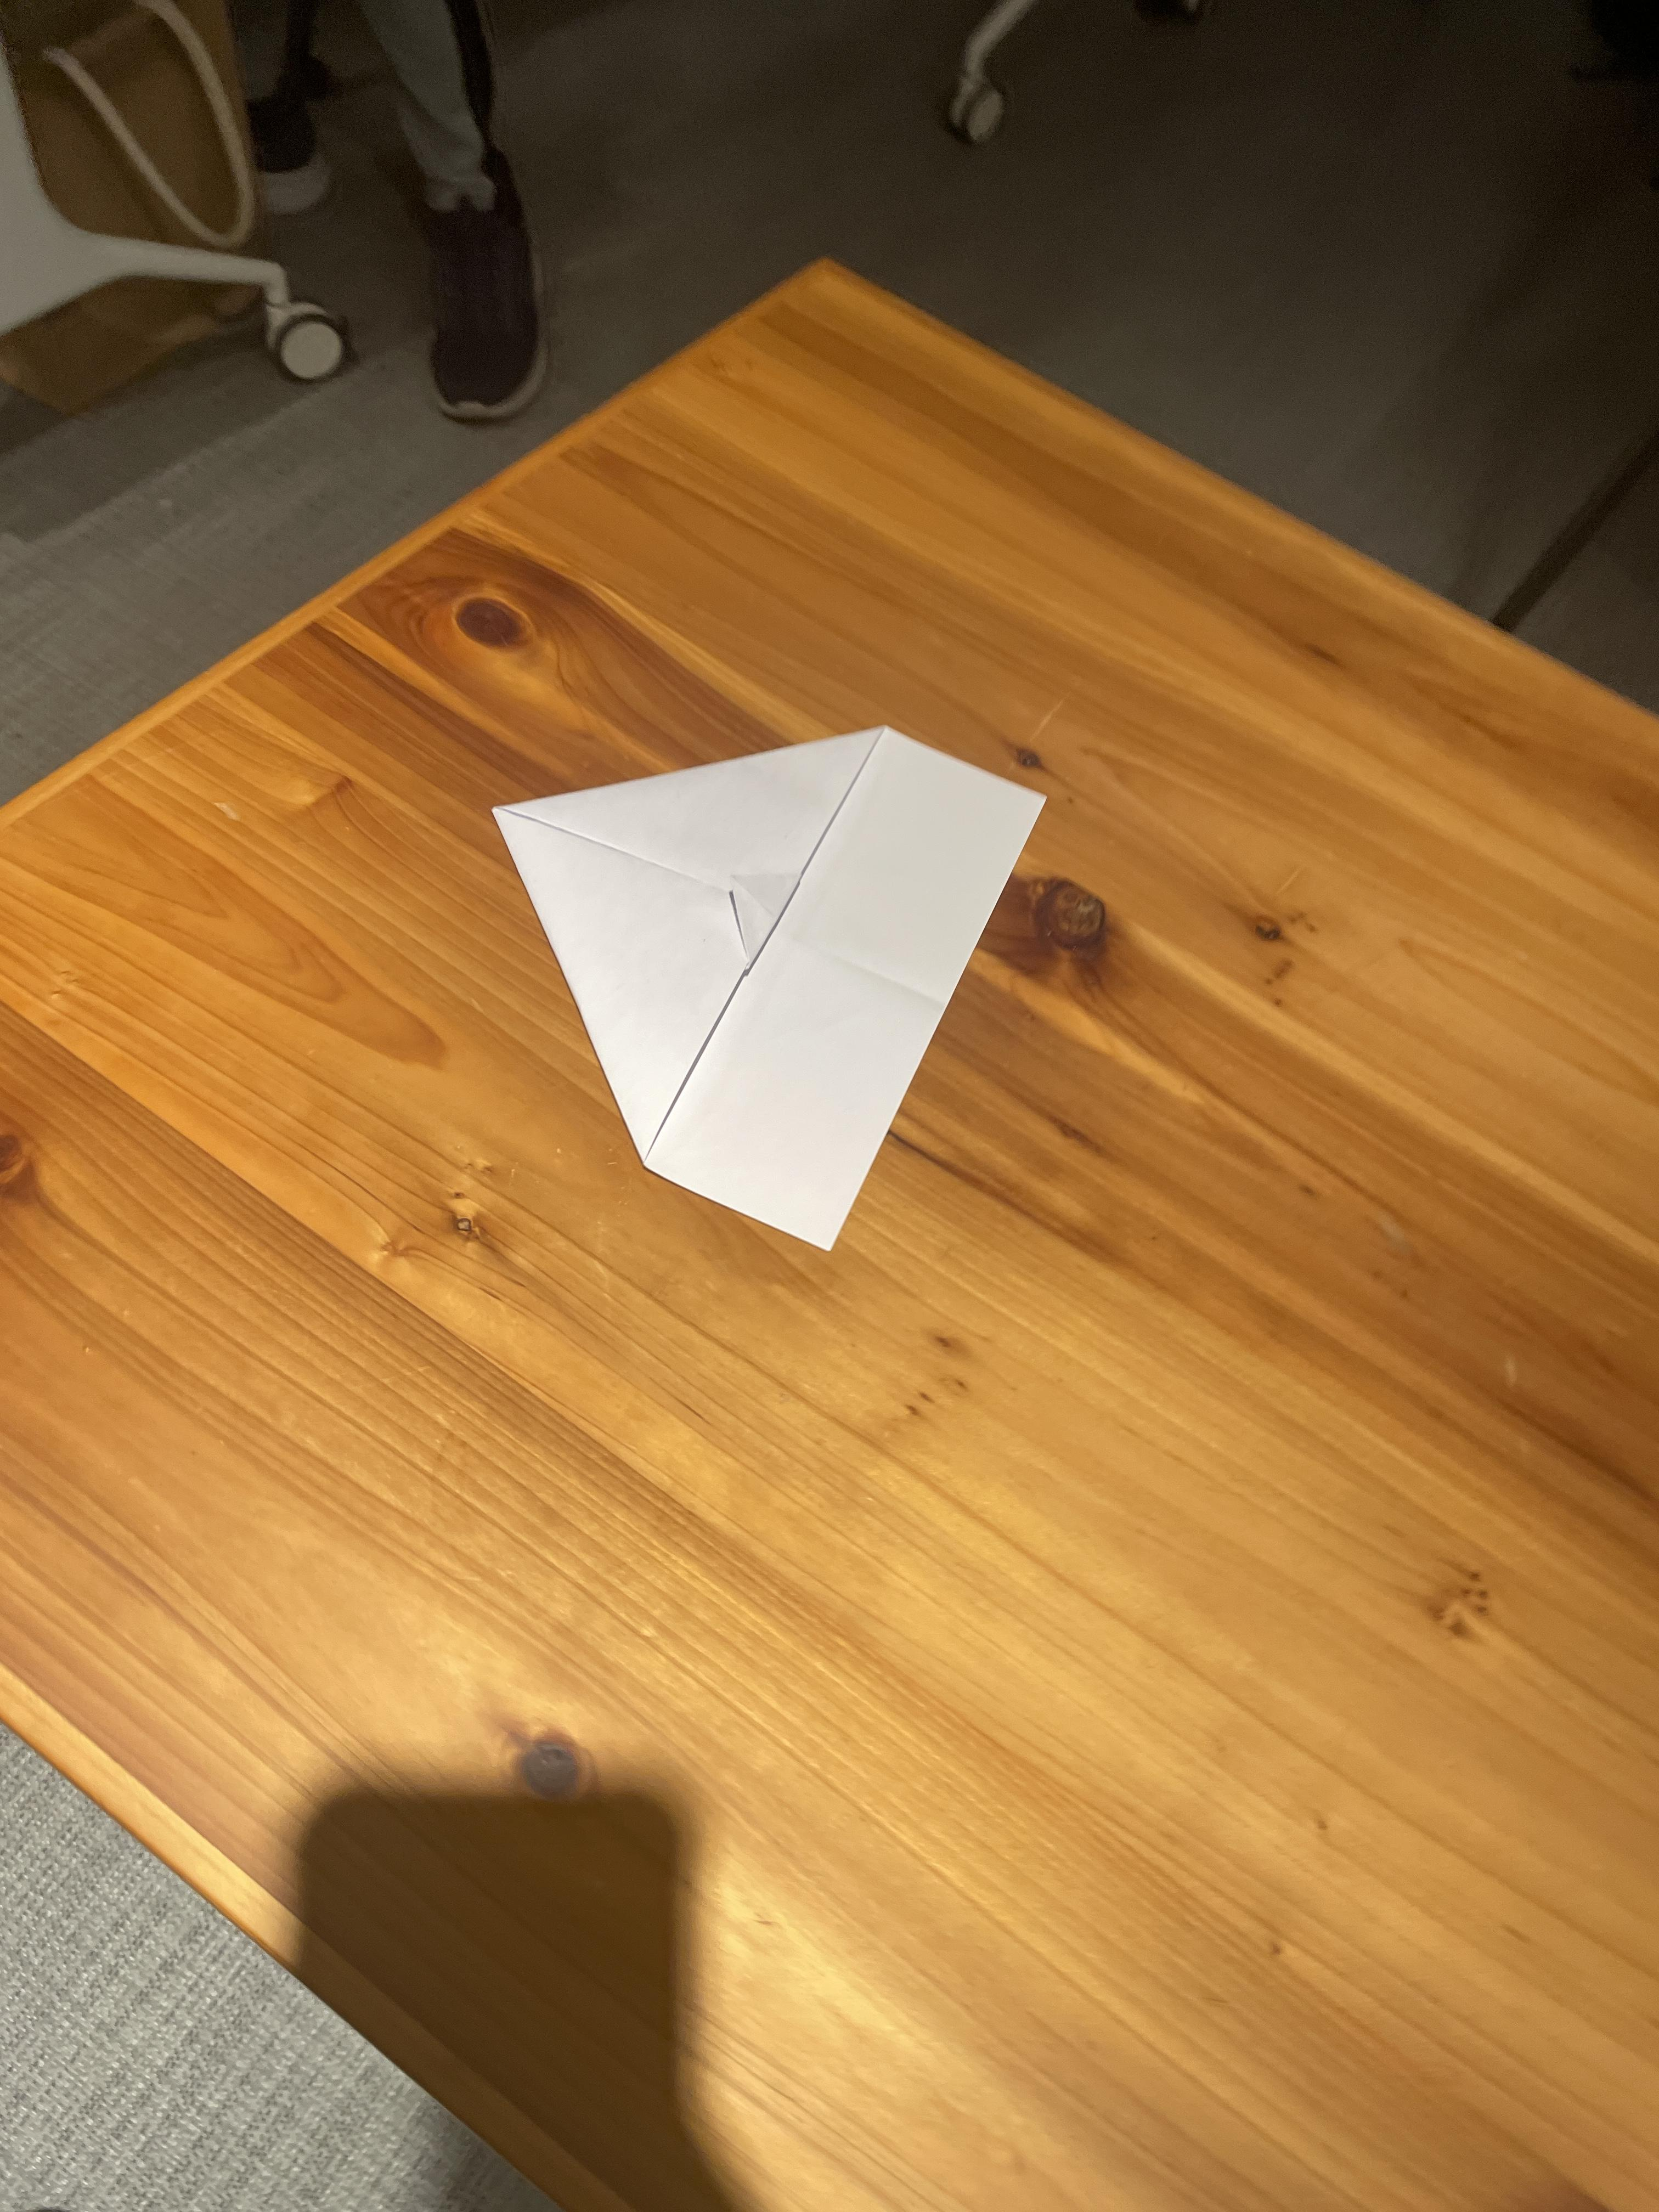shape_2: (383, 637, 1162, 1393)
